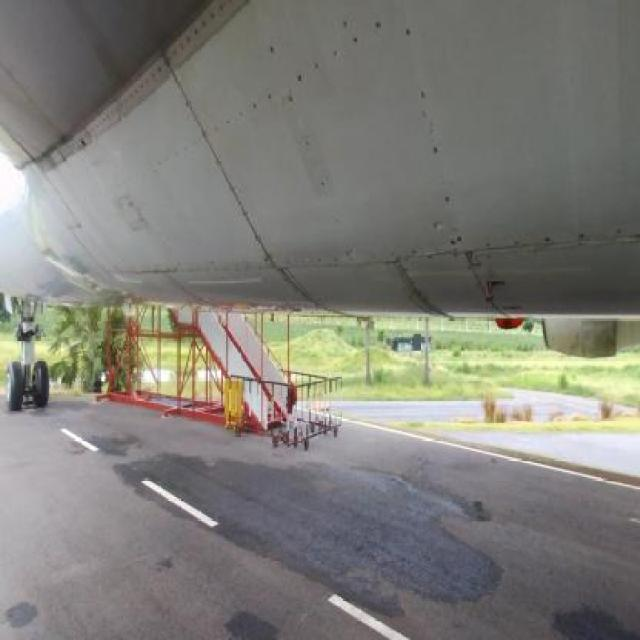Missing-Rivet: (400, 26, 474, 242), (310, 18, 388, 74), (225, 74, 300, 123)
